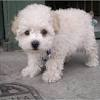Bulldog: (9, 2, 98, 83)
